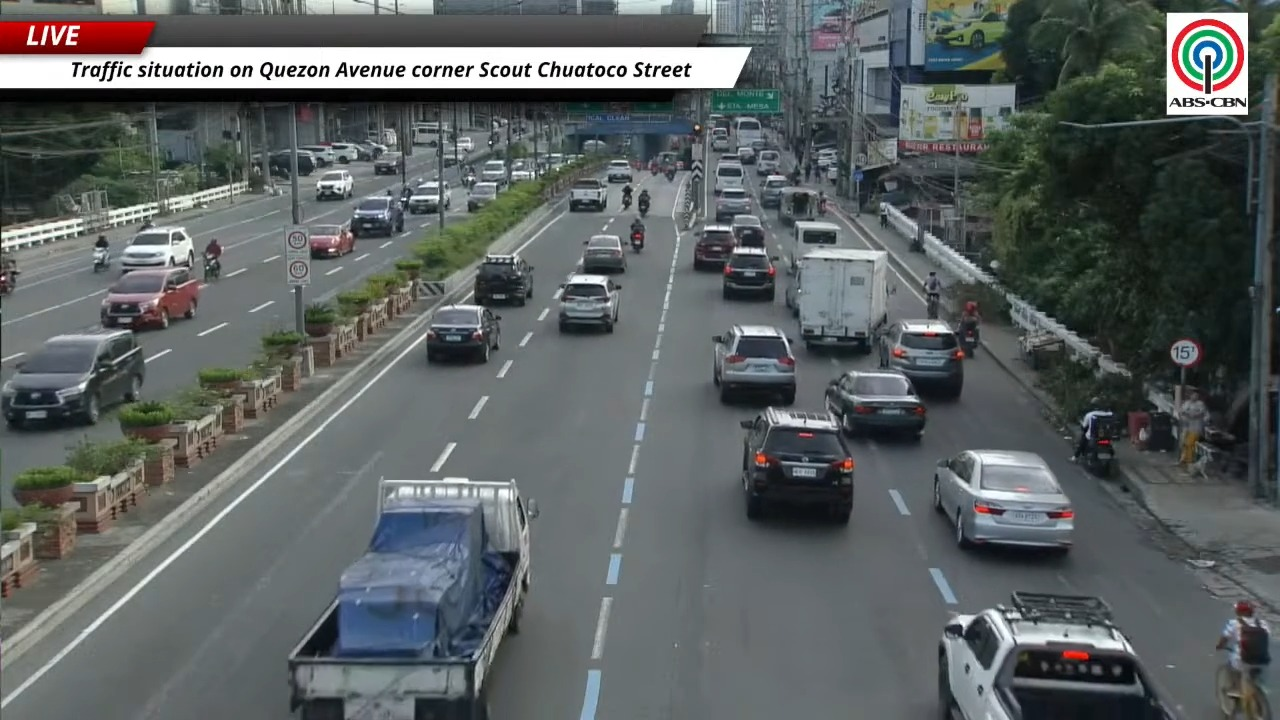car: (933, 450, 1073, 552), (0, 328, 145, 426), (740, 407, 854, 523), (825, 370, 926, 439), (713, 325, 795, 405), (879, 320, 963, 397), (100, 266, 200, 329), (426, 305, 500, 362), (558, 273, 620, 332), (120, 226, 193, 271), (474, 254, 533, 305), (723, 246, 776, 299), (933, 12, 1006, 49), (350, 196, 404, 236), (693, 225, 735, 270), (580, 235, 626, 273), (308, 223, 355, 258), (407, 181, 450, 213), (715, 187, 751, 221), (731, 214, 765, 247), (315, 171, 353, 200), (713, 162, 745, 195), (760, 175, 789, 208), (467, 182, 498, 212), (299, 145, 335, 167), (345, 141, 385, 160), (329, 142, 364, 163), (374, 151, 404, 174), (480, 160, 507, 185), (269, 150, 294, 177), (606, 159, 633, 182), (757, 150, 780, 176), (815, 149, 837, 169), (737, 145, 755, 164), (511, 169, 535, 183), (750, 138, 767, 157), (454, 136, 474, 152), (711, 135, 730, 151), (719, 151, 740, 164)
motorcycle: (1078, 418, 1116, 478), (957, 323, 979, 358), (203, 254, 220, 281), (93, 248, 110, 271), (0, 269, 15, 295), (926, 293, 939, 318), (630, 231, 644, 252), (462, 172, 476, 189), (638, 200, 649, 217), (622, 195, 632, 211), (400, 193, 409, 210), (666, 169, 676, 182), (651, 166, 659, 175)
truck: (289, 477, 536, 719), (937, 591, 1178, 719), (785, 247, 891, 353), (569, 179, 607, 211)
